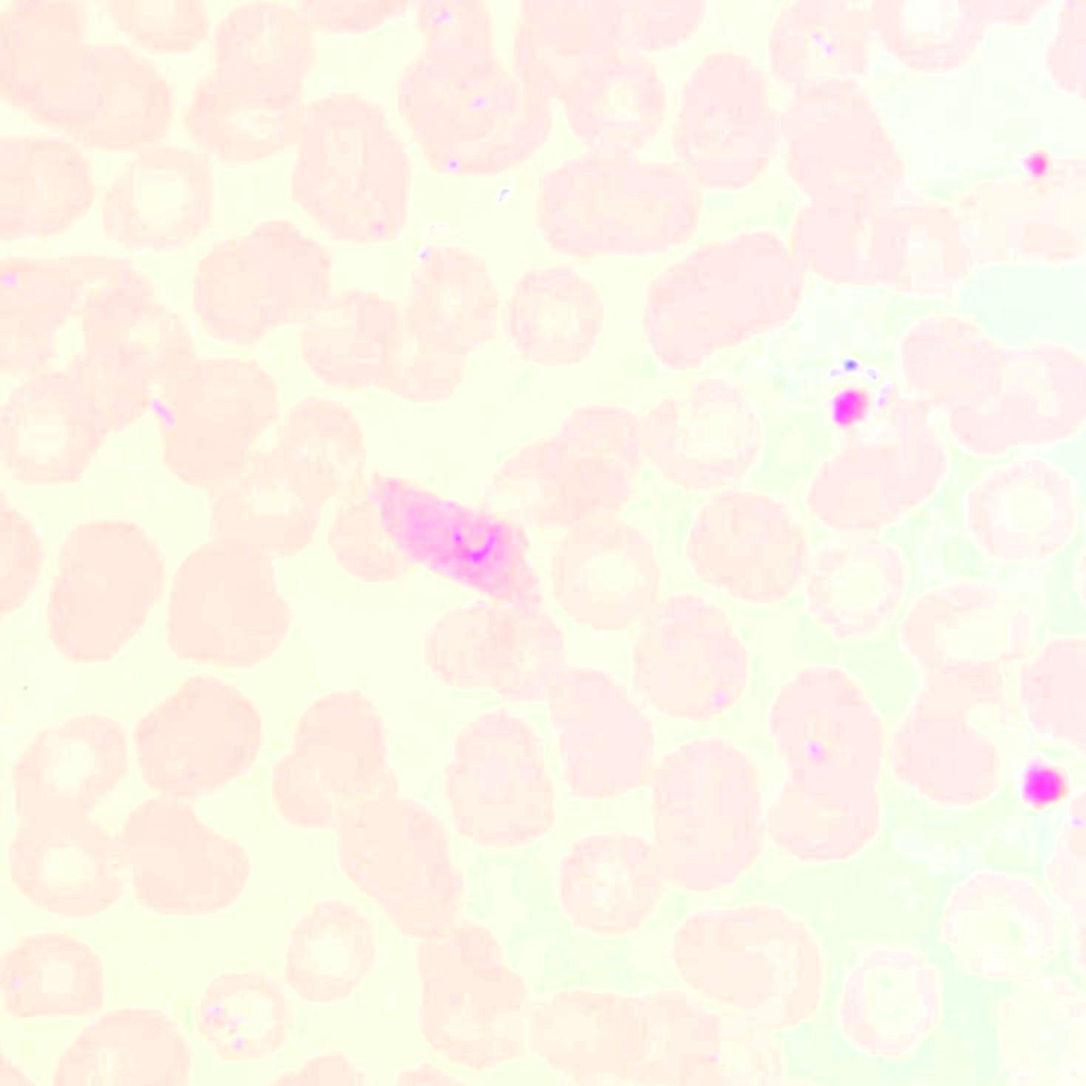Infected: (372, 472, 546, 614)
Uninfected: (643, 235, 793, 373), (495, 402, 651, 530), (779, 73, 907, 214), (798, 196, 968, 302), (336, 791, 462, 934), (288, 101, 413, 245), (17, 40, 170, 155), (193, 218, 330, 346), (539, 152, 698, 262), (675, 900, 818, 1022), (153, 356, 282, 489), (45, 517, 163, 662), (648, 738, 763, 886), (943, 339, 1086, 458), (171, 533, 295, 669), (134, 676, 263, 804), (406, 67, 550, 179), (118, 795, 248, 917), (413, 928, 528, 1065), (631, 594, 747, 725), (542, 662, 652, 800), (806, 430, 941, 538), (441, 714, 552, 844), (650, 376, 772, 493), (428, 595, 557, 704), (277, 688, 390, 812), (767, 663, 875, 788), (8, 804, 129, 915), (685, 489, 802, 603), (551, 517, 662, 634), (963, 458, 1079, 569), (680, 48, 775, 183), (903, 316, 1018, 423), (899, 582, 1019, 683), (891, 696, 997, 809), (103, 143, 214, 250), (19, 714, 129, 821), (204, 469, 319, 570), (764, 767, 878, 867), (769, 1, 890, 94), (189, 69, 302, 167), (801, 535, 907, 639), (2, 134, 97, 245), (504, 264, 603, 367), (208, 3, 311, 101), (56, 1008, 188, 1084), (559, 832, 658, 930), (554, 61, 672, 141), (5, 370, 94, 474), (304, 283, 401, 378), (407, 242, 500, 341), (283, 390, 365, 500), (2, 931, 101, 1019), (47, 338, 145, 426), (413, 3, 506, 95), (281, 900, 371, 995), (1018, 629, 1086, 751), (595, 1, 703, 60)
